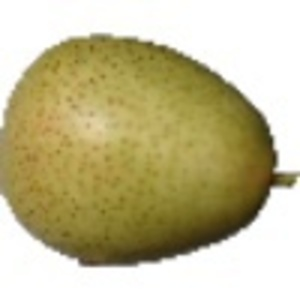pera: (1, 25, 300, 269)
